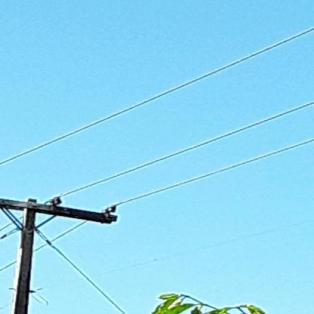Poste: (0, 191, 49, 313)
